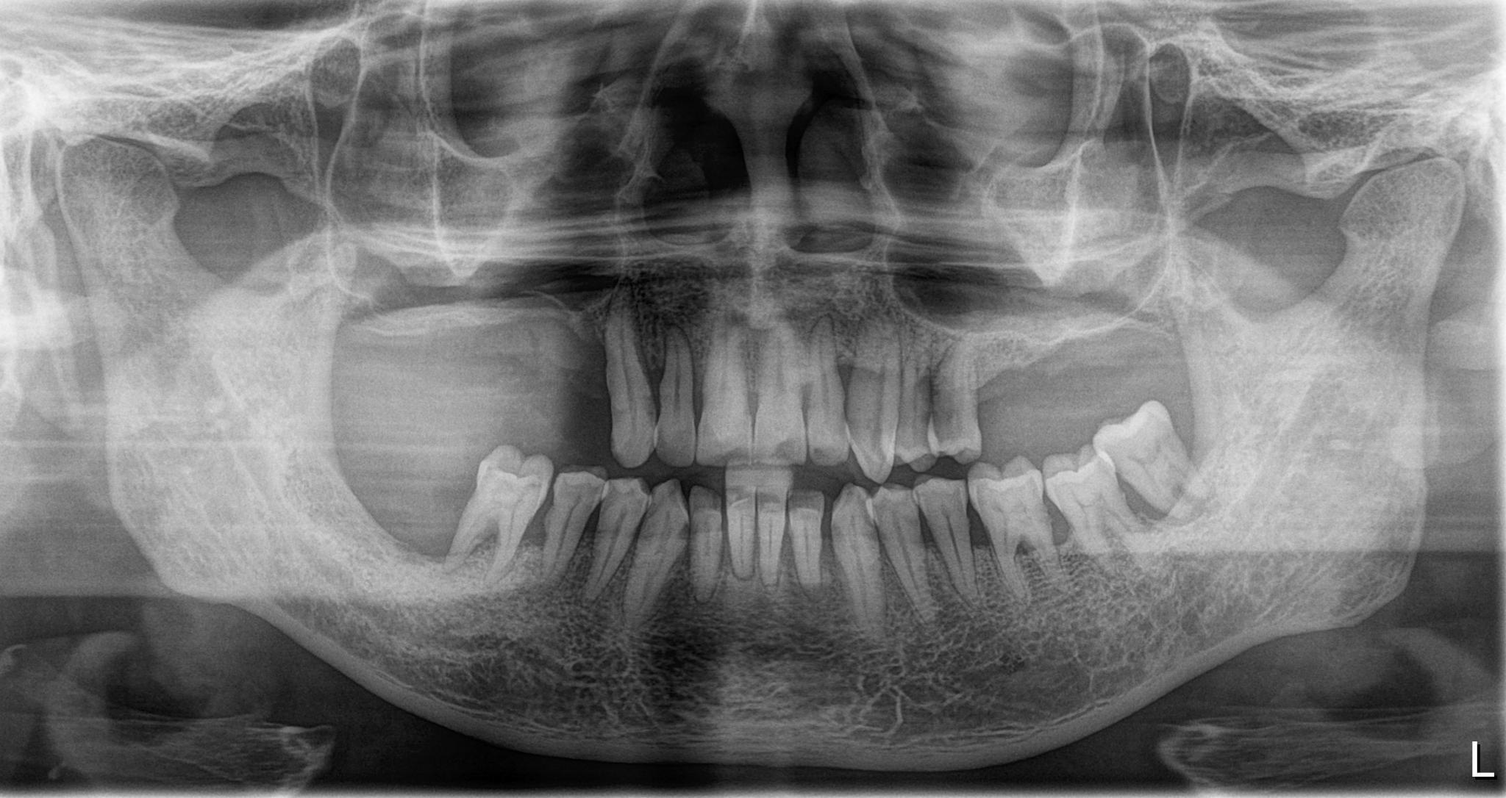Missing Tooth: (452, 248, 518, 404), (386, 242, 449, 400), (1121, 259, 1179, 404), (526, 248, 571, 396), (1031, 305, 1080, 440), (390, 457, 445, 575), (976, 323, 1026, 443), (1079, 296, 1123, 410), (346, 263, 385, 390), (347, 450, 389, 557)
